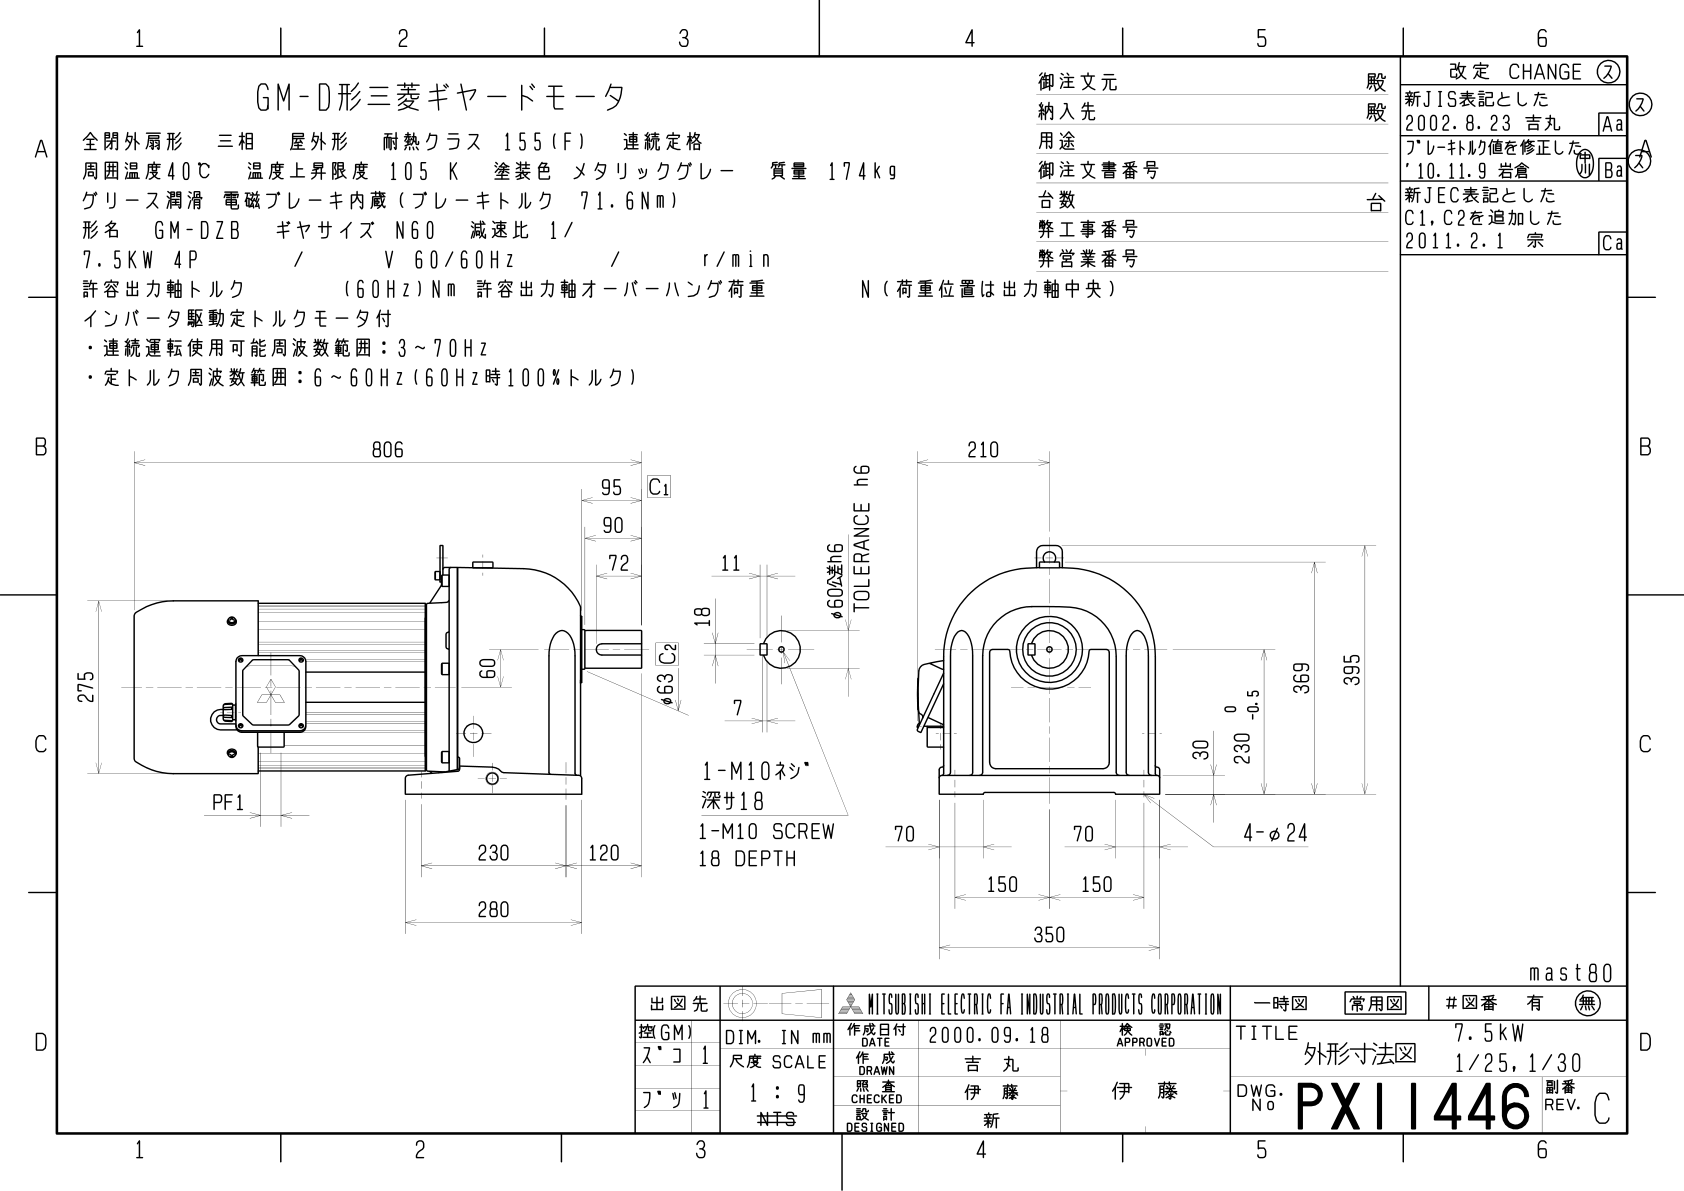GM_D_インバータ屋外_三相_脚: (63, 403, 1379, 971)
